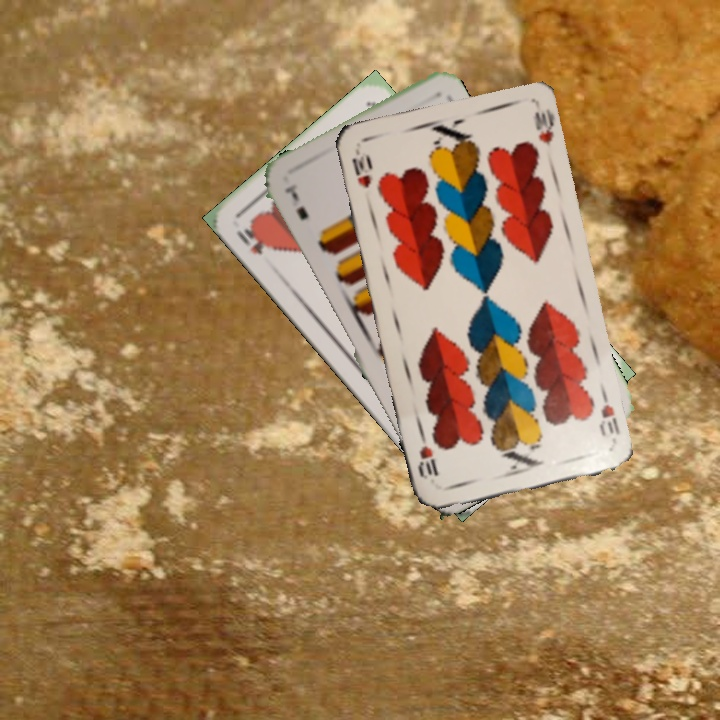E7: (281, 180, 311, 223)
H10: (595, 387, 623, 439), (348, 145, 374, 191)
HO: (232, 221, 274, 258)
